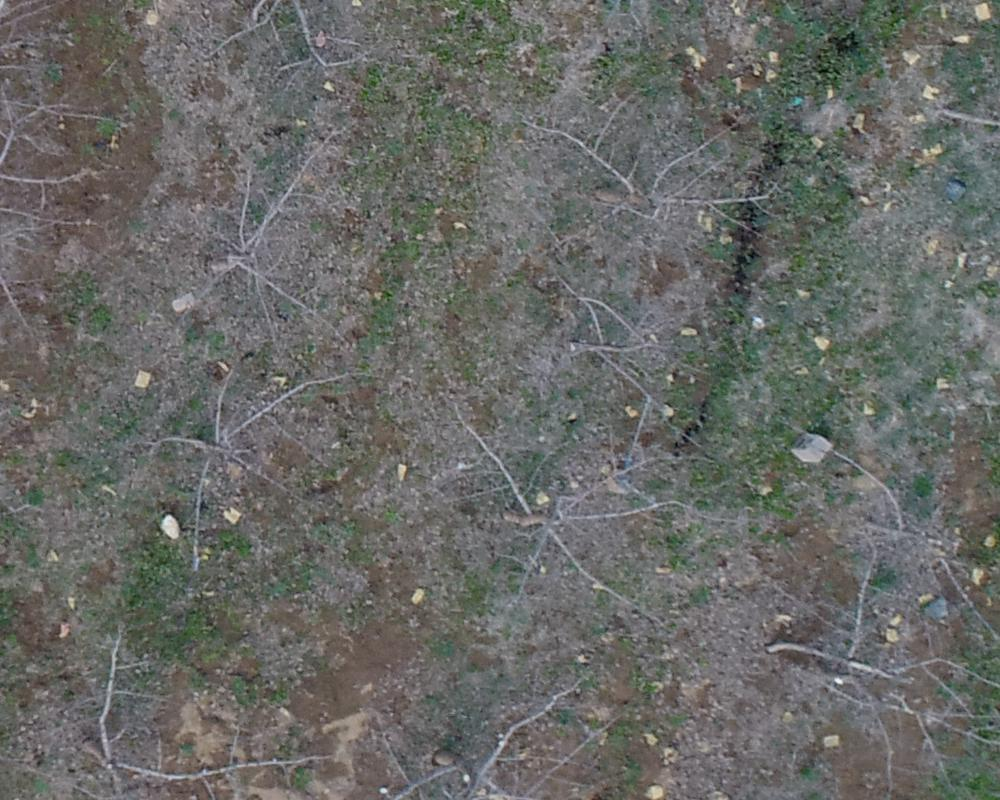apple: (420, 369, 705, 639), (505, 86, 797, 275), (120, 349, 366, 567), (149, 125, 375, 354), (758, 572, 990, 783), (34, 631, 331, 790), (337, 680, 652, 790), (790, 458, 990, 630)
